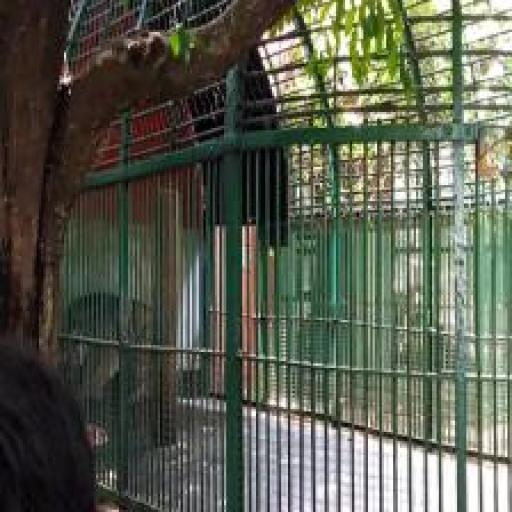Tiger: (66, 286, 176, 407)
